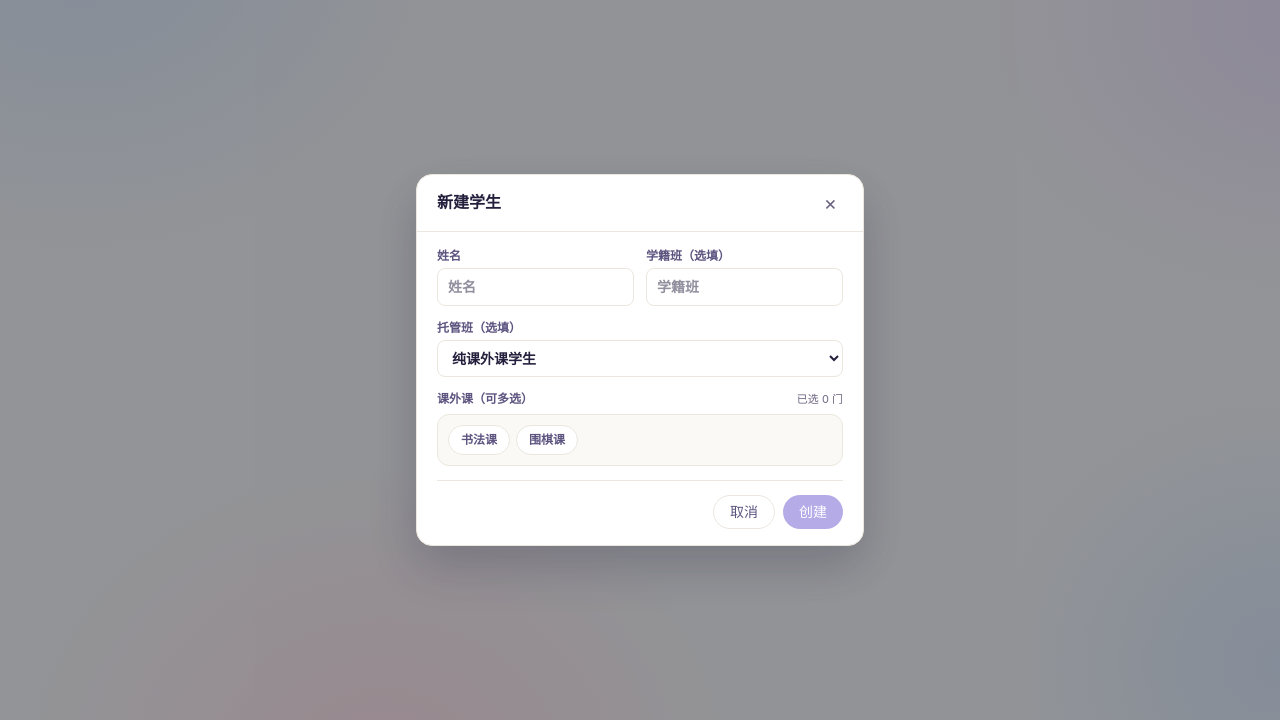
Test case: CreateStudentModal › toggles a course chip selected state on click and updates the selected count
expect the text "已选 0 门" is shown: met, box [797,391,843,408]
What coordinates should you click on to do the following:
click the button "书法课"
I would click on:
 (479, 440)
Its box is [448,425,510,455].
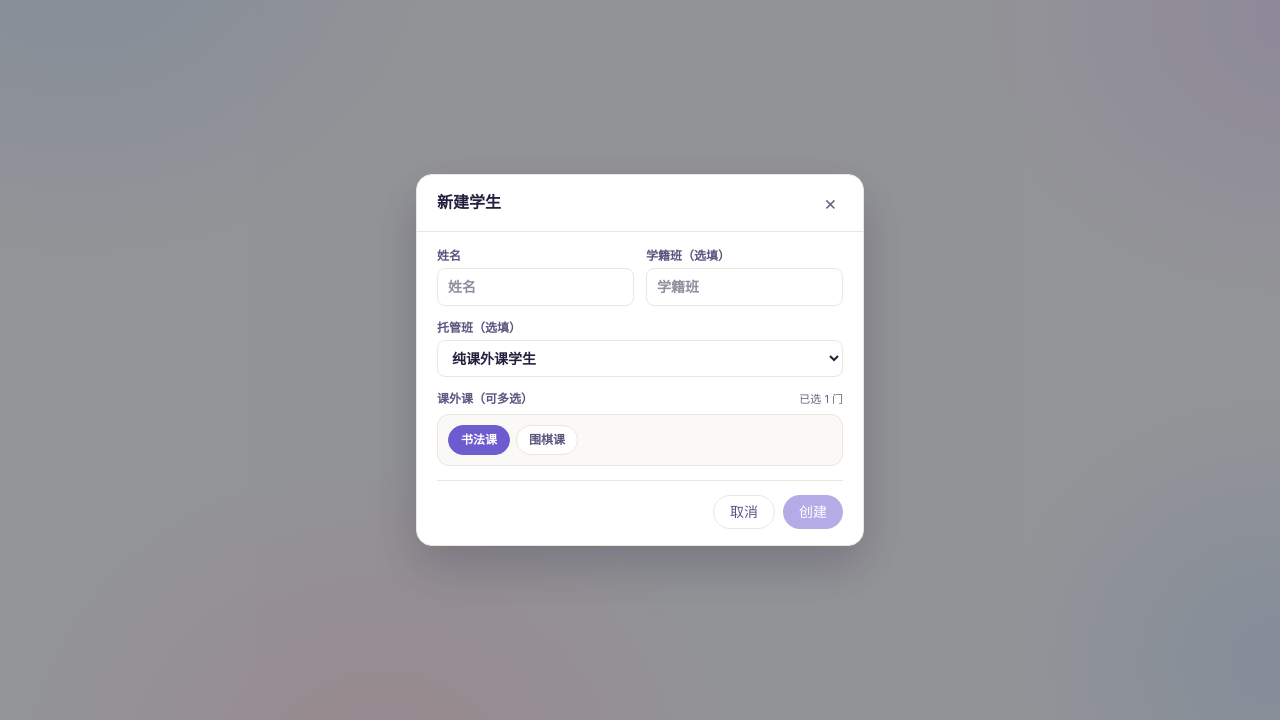
expect the text "已选 1 门" is shown: met, box [799,391,843,408]
What coordinates should you click on to do the following:
click the button "书法课"
I would click on:
 (479, 440)
Its box is [448,425,510,455].
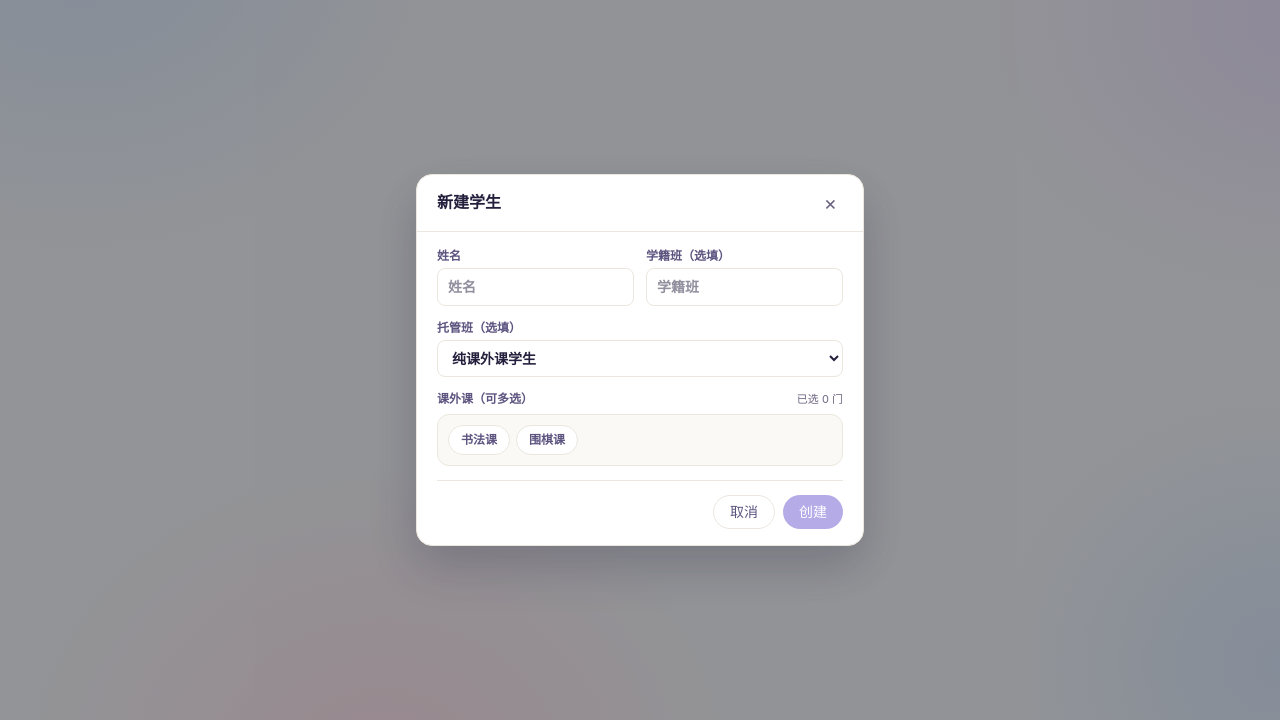
expect the text "已选 0 门" is shown: met, box [797,391,843,408]
